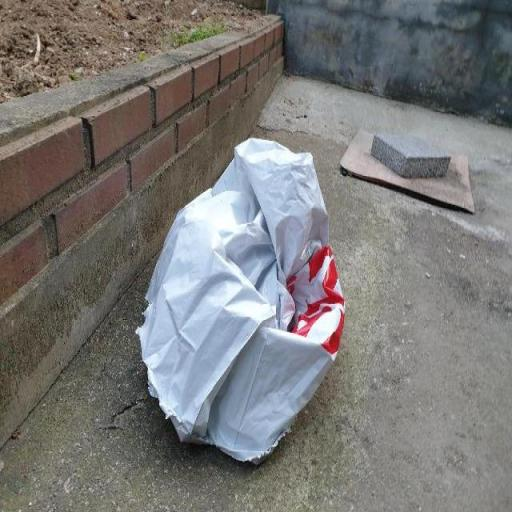plastic-bag: (128, 140, 344, 463)
